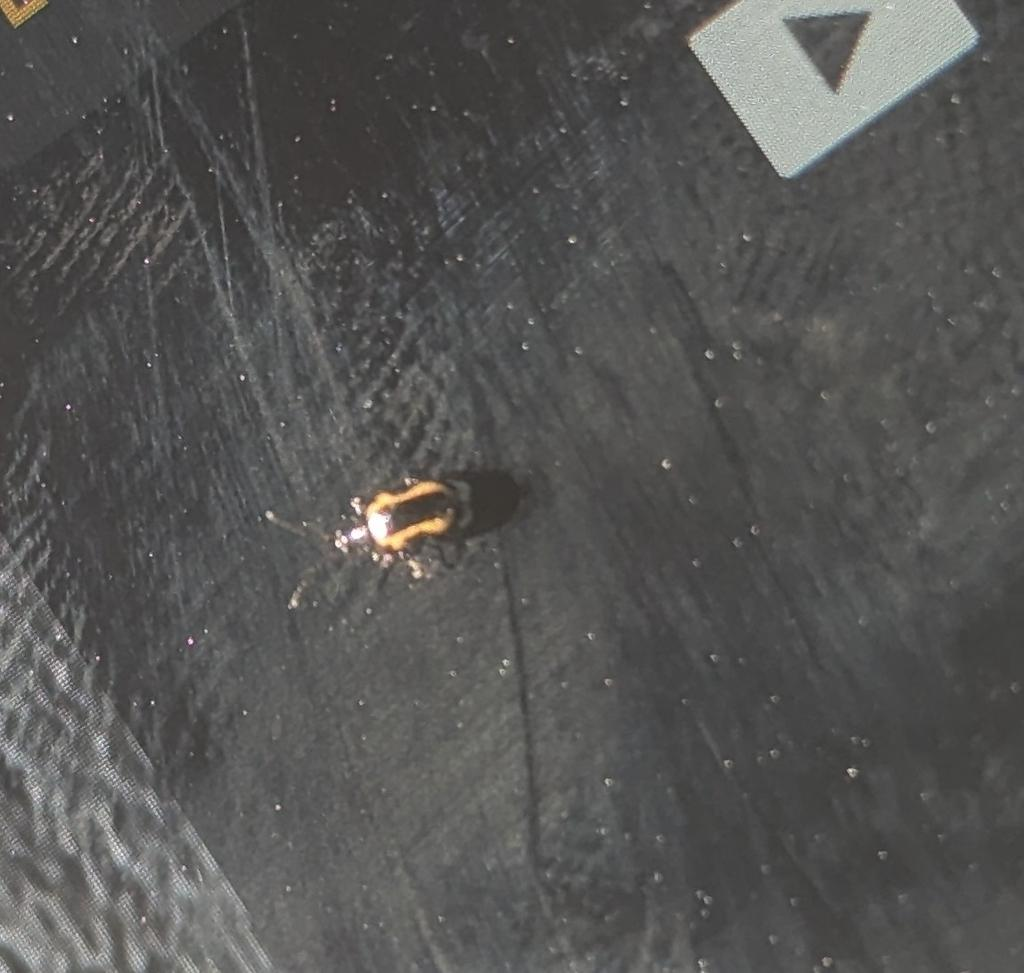flea_beetle: (252, 444, 506, 654)
